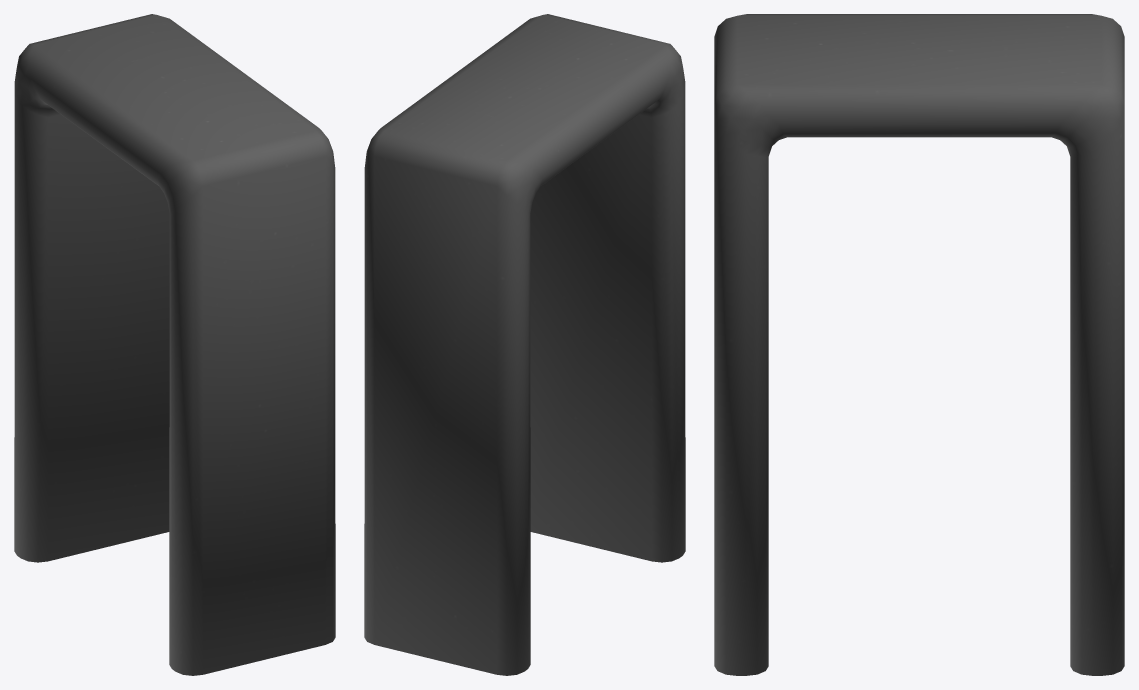
The model's file is RS_door_arch.fbx.
3 views of the same model, side by side, from view 1: azimuth 30°, elevation 25°; view 2: azimuth 150°, elevation 25°; view 3: azimuth 270°, elevation 25° (orthographic). The views are drawn at different scales.
Visible parts, largest first — view 1: Окружность.002; view 2: Окружность.002; view 3: Окружность.002.
Part boxes in pixels (x1,y1,x2,y2): Окружность.002: (14, 14, 335, 675); Окружность.002: (364, 14, 685, 675); Окружность.002: (714, 14, 1124, 675).
Size of the model in its own units: 73.79 by 227 by 145.
